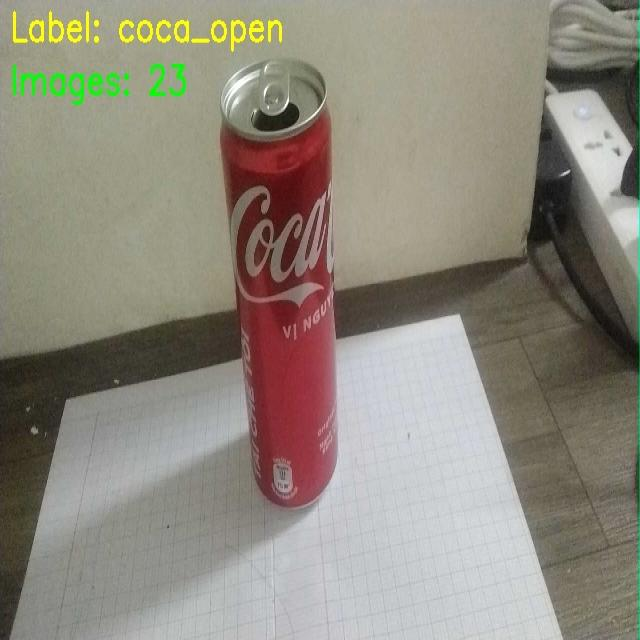Coca_open: (210, 55, 348, 518)
